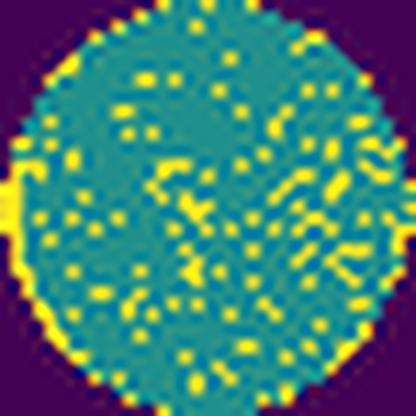Edge-Loc: (0, 157, 93, 369)
